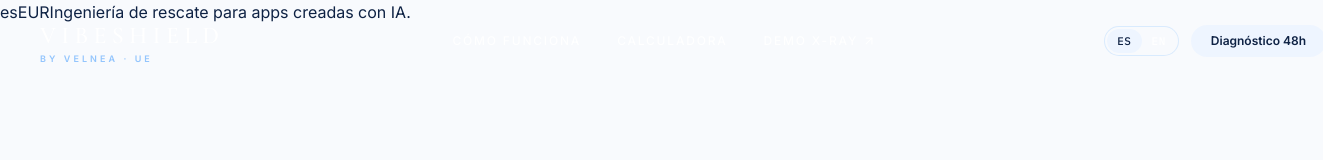
Scenario: LocaleContext, Navbar, and Footer › switches ES <-> EN interactively via Navbar updating locale, currency, document.lang, and URL preserving hash
The image size is (1323, 160).
Expected: the text with test id "probe-currency" reads "EUR", 18,2 -> 50,22
What coordinates should you click on to do the following:
click the button "EN"
I would click on:
 (1159, 41)
Its box is 1142,29 -> 1176,53.
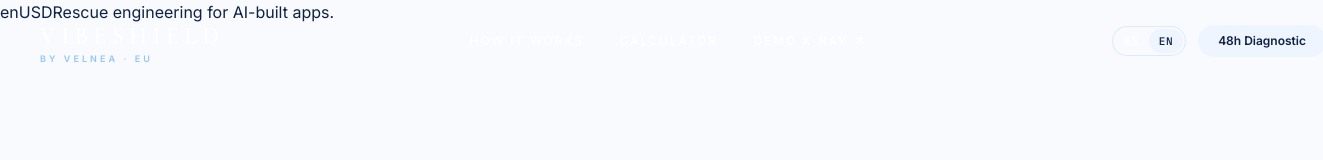
Expected: the text with test id "probe-locale" reads "en", 0,2 -> 19,22
Expected: the text with test id "probe-currency" reads "USD", 19,2 -> 52,22
What coordinates should you click on to do the following:
click the button "ES"
I would click on:
 (1132, 41)
Its box is 1114,29 -> 1149,53.
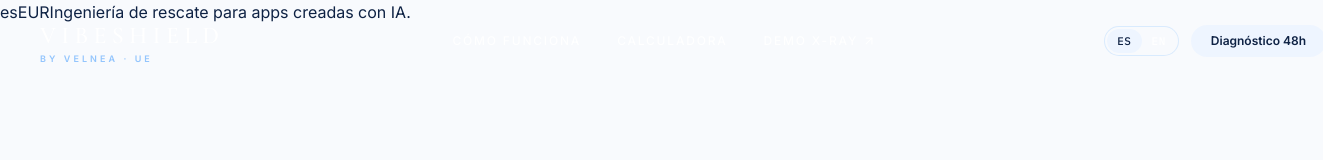
Expected: the text with test id "probe-locale" reads "es", 0,2 -> 18,22
Expected: the text with test id "probe-currency" reads "EUR", 18,2 -> 50,22
